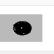correct: (12, 20, 36, 37)
